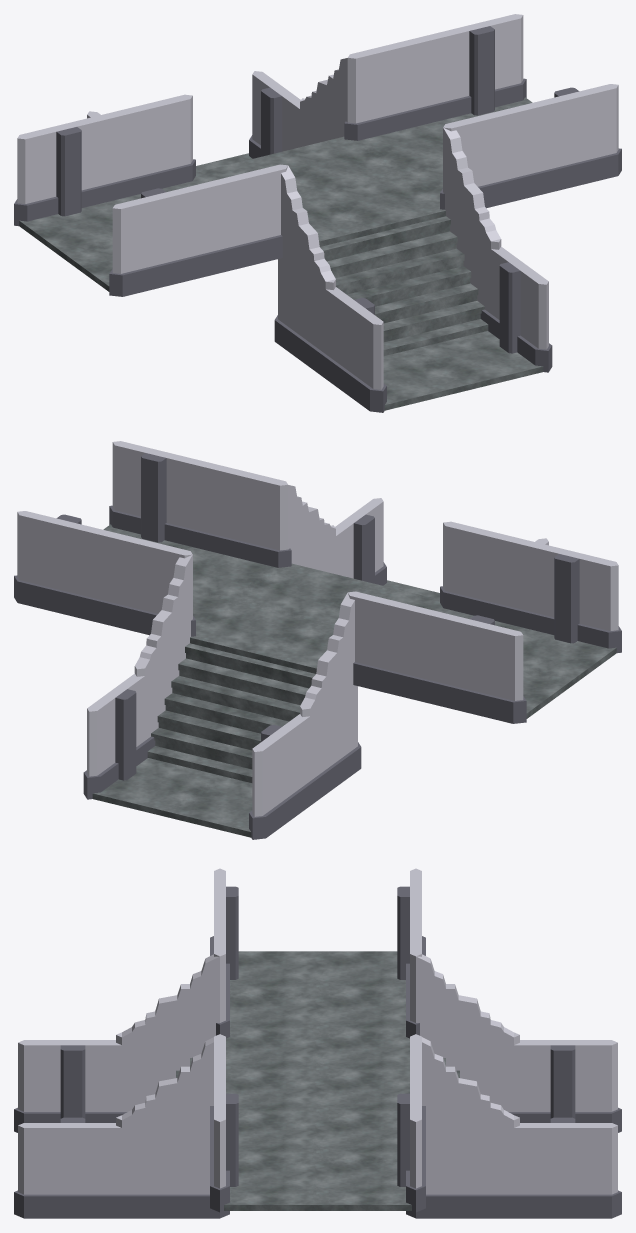
File: intersection_4way_stair_03.fbx
3 renders of one model, top to bottom at view 1: azimuth 30°, elevation 25°; view 2: azimuth 150°, elevation 25°; view 3: azimuth 270°, elevation 25°, orthographic. The views are drawn at different scales.
Visible parts, largest first — view 1: stairs_01_131, floor_01_129, wall_02_144, wall_02_147, wall_02_143, wall_02_148, wall_01_139, wall_01_140, wall_01_142, floor_04_138, wall_01_141, wall_02_146 (+5 smaller); view 2: stairs_01_130, floor_01_129, wall_02_147, wall_02_144, wall_02_148, wall_01_141, wall_02_143, wall_01_140, wall_01_142, floor_04_137, wall_01_139, wall_02_145 (+5 smaller); view 3: stairs_01_131, stairs_01_130, floor_01_129, floor_01_133, floor_01_135, wall_02_149, wall_02_150, wall_02_146, wall_02_145, wall_02_143, wall_02_148, wall_02_147 (+5 smaller).
Part boxes in pixels (left/top/right/bottom): stairs_01_131: left=274, top=124, right=501, bottom=375; floor_01_129: left=187, top=136, right=445, bottom=246; wall_02_144: left=109, top=185, right=205, bottom=296; wall_02_147: left=14, top=115, right=109, bottom=226; wall_02_143: left=529, top=84, right=621, bottom=195; wall_02_148: left=431, top=14, right=526, bottom=120; wall_01_139: left=344, top=34, right=441, bottom=140; wall_01_140: left=101, top=94, right=195, bottom=201; wall_01_142: left=196, top=164, right=287, bottom=276; floor_04_138: left=383, top=331, right=543, bottom=410; wall_01_141: left=440, top=104, right=535, bottom=209; wall_02_146: left=322, top=287, right=386, bottom=412; stairs_01_130: left=134, top=551, right=361, bottom=802; floor_01_129: left=190, top=563, right=448, bottom=673; wall_02_147: left=430, top=612, right=526, bottom=723; wall_02_144: left=526, top=542, right=621, bottom=653; wall_02_148: left=14, top=511, right=108, bottom=622; wall_01_141: left=194, top=461, right=291, bottom=567; wall_02_143: left=109, top=441, right=205, bottom=547; wall_01_140: left=348, top=591, right=440, bottom=703; wall_01_142: left=440, top=521, right=534, bottom=628; floor_04_137: left=92, top=758, right=252, bottom=837; wall_01_139: left=100, top=531, right=195, bottom=636; wall_02_145: left=249, top=714, right=313, bottom=839; stairs_01_131: left=116, top=951, right=229, bottom=1218; stairs_01_130: left=406, top=951, right=519, bottom=1218; floor_01_129: left=226, top=1034, right=409, bottom=1122; floor_01_133: left=224, top=1122, right=411, bottom=1210; floor_01_135: left=230, top=951, right=405, bottom=1036; wall_02_149: left=514, top=1117, right=621, bottom=1218; wall_02_150: left=14, top=1117, right=122, bottom=1218; wall_02_146: left=14, top=1040, right=124, bottom=1132; wall_02_145: left=514, top=1040, right=621, bottom=1132; wall_02_143: left=210, top=1075, right=238, bottom=1212; wall_02_148: left=397, top=1075, right=425, bottom=1212; wall_02_147: left=397, top=868, right=425, bottom=980.
Size of the model in its own units: 62.05 by 20 by 62.05.
